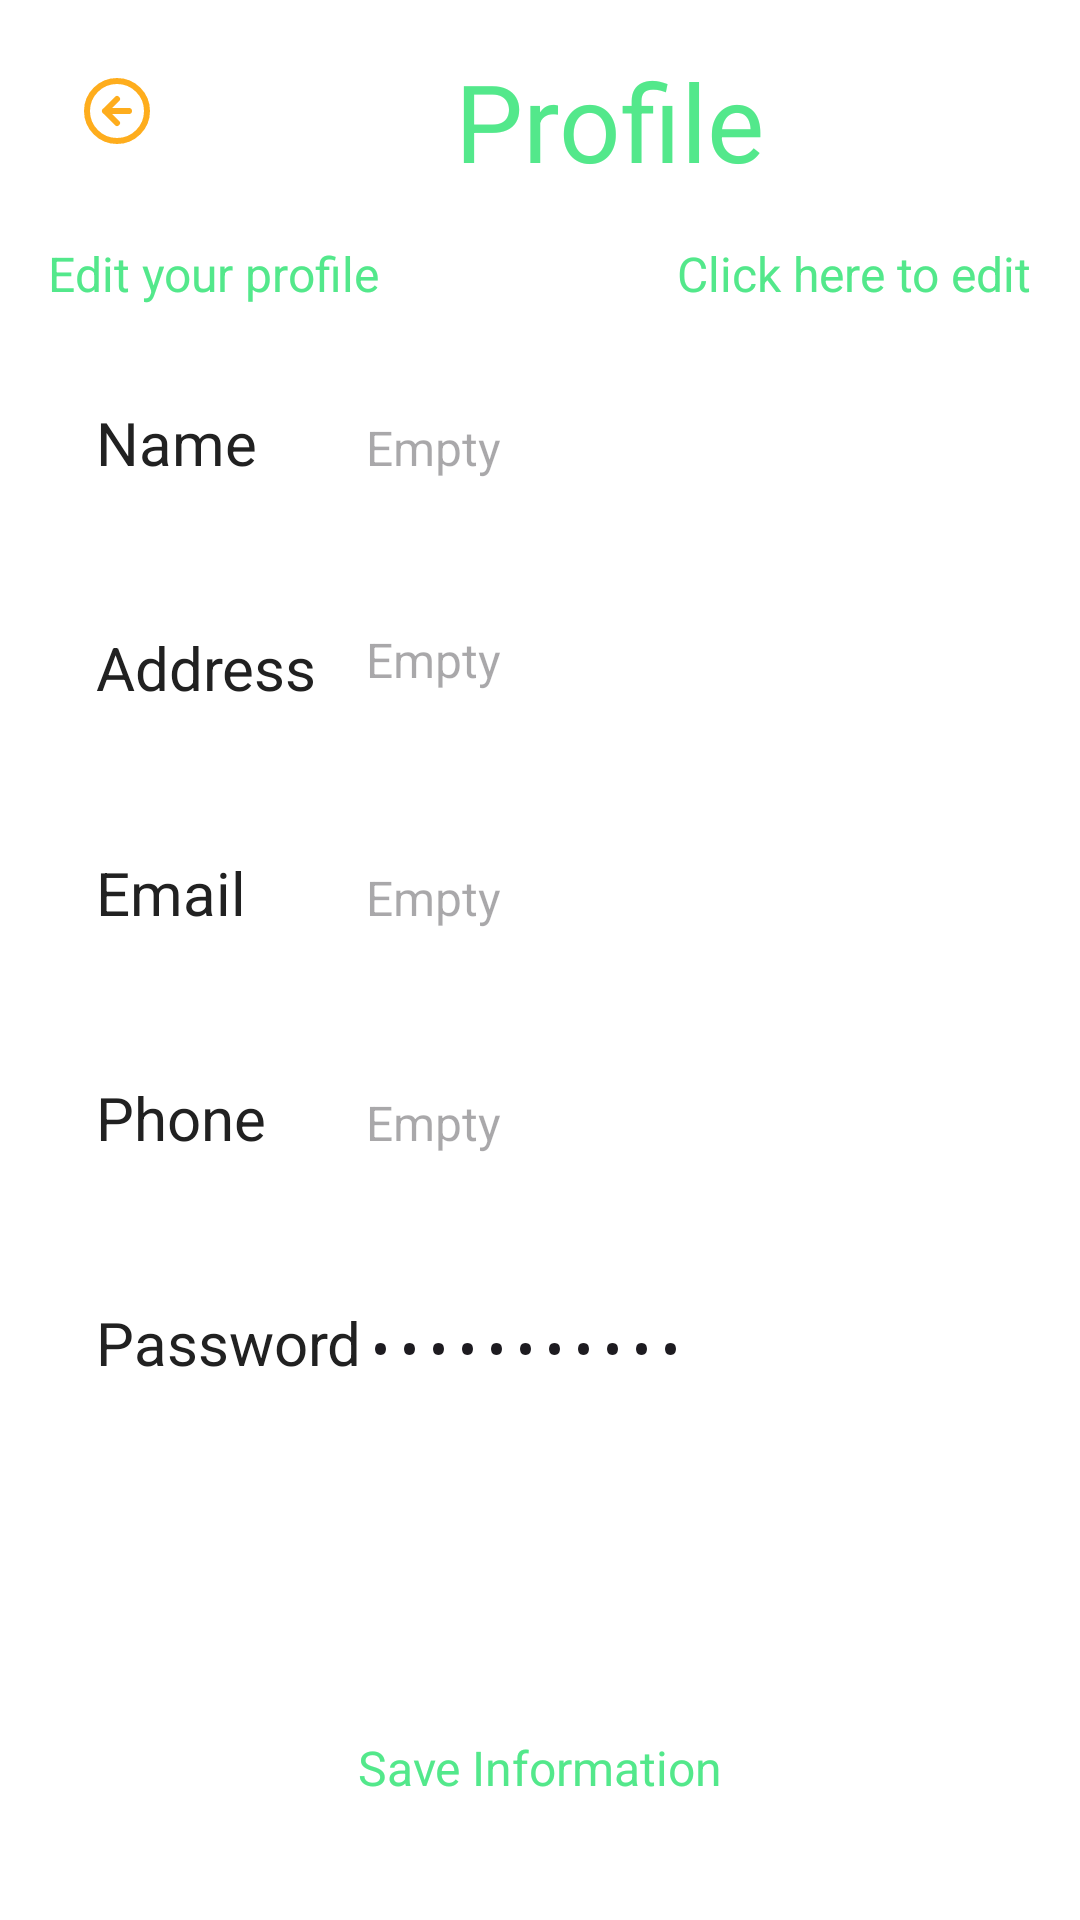

Screen size 1080px x 1920px. Icon name, then its box in pixels as [x1=x1, y1=y1, x2=x2, y2=y2]:
back arrow: [x1=84, y1=78, x2=150, y2=144]
